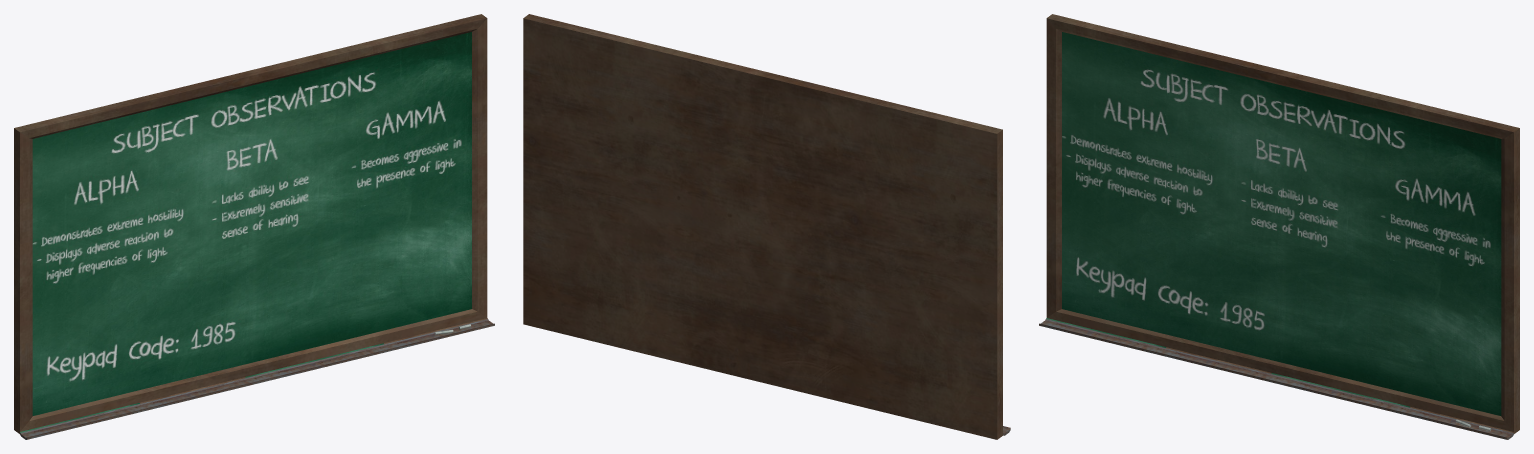
The model's file is Chalkboard.fbx.
3 renders of one model, left to right at view 1: azimuth 30°, elevation 25°; view 2: azimuth 150°, elevation 25°; view 3: azimuth 330°, elevation 25°, orthographic.
Visible parts, largest first — view 1: Cube; view 2: Cube; view 3: Cube.
Part boxes in pixels (x1,y1,x2,y2): Cube: [14, 14, 494, 439]; Cube: [523, 14, 1010, 439]; Cube: [1039, 14, 1519, 439].
Bounding box in the file's own units: 552 × 342 × 27.3.
Materials: 1 (1 with a texture image).
